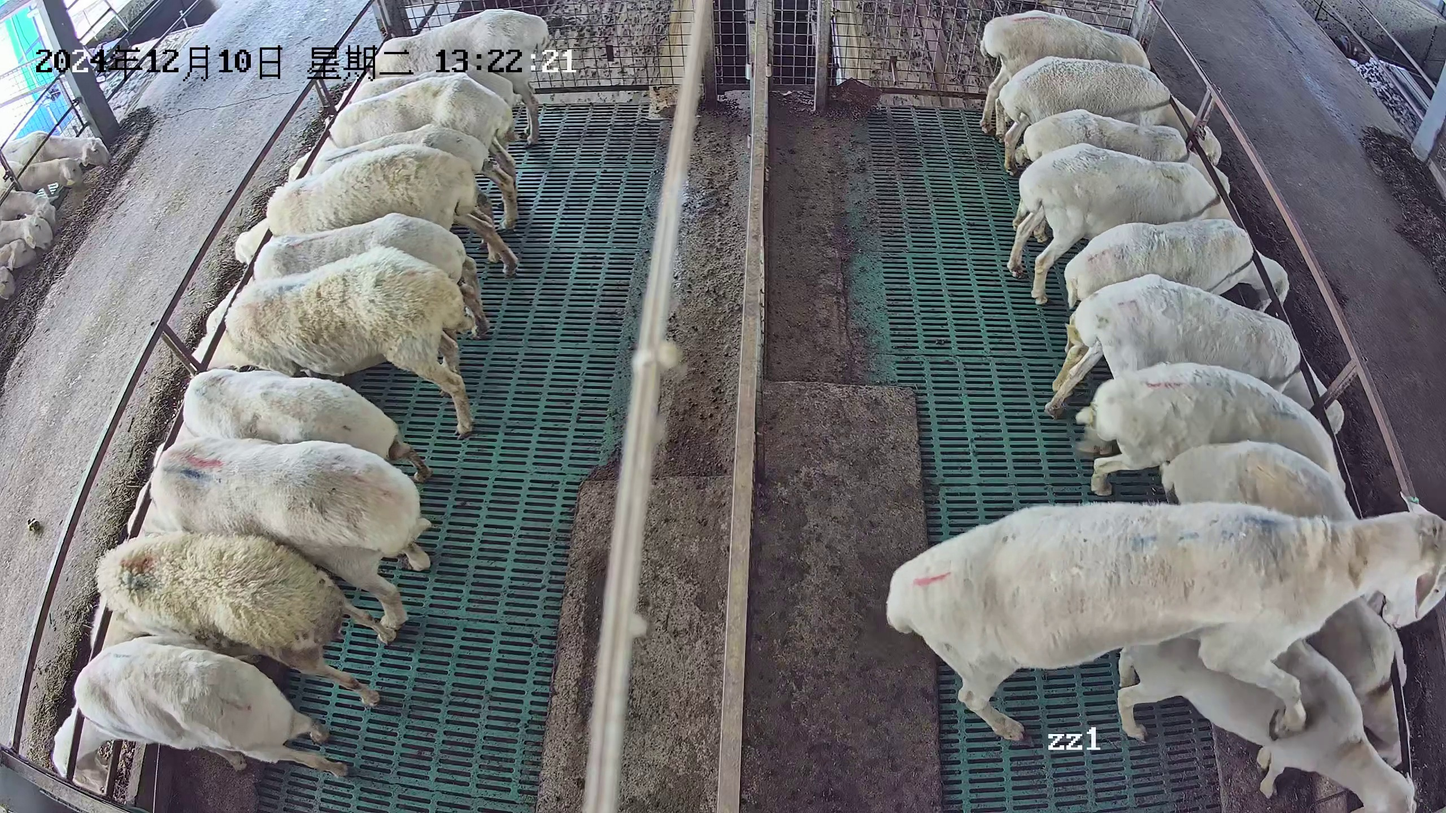Smounting: (885, 491, 1446, 813)
mounted: (1114, 624, 1420, 813)
